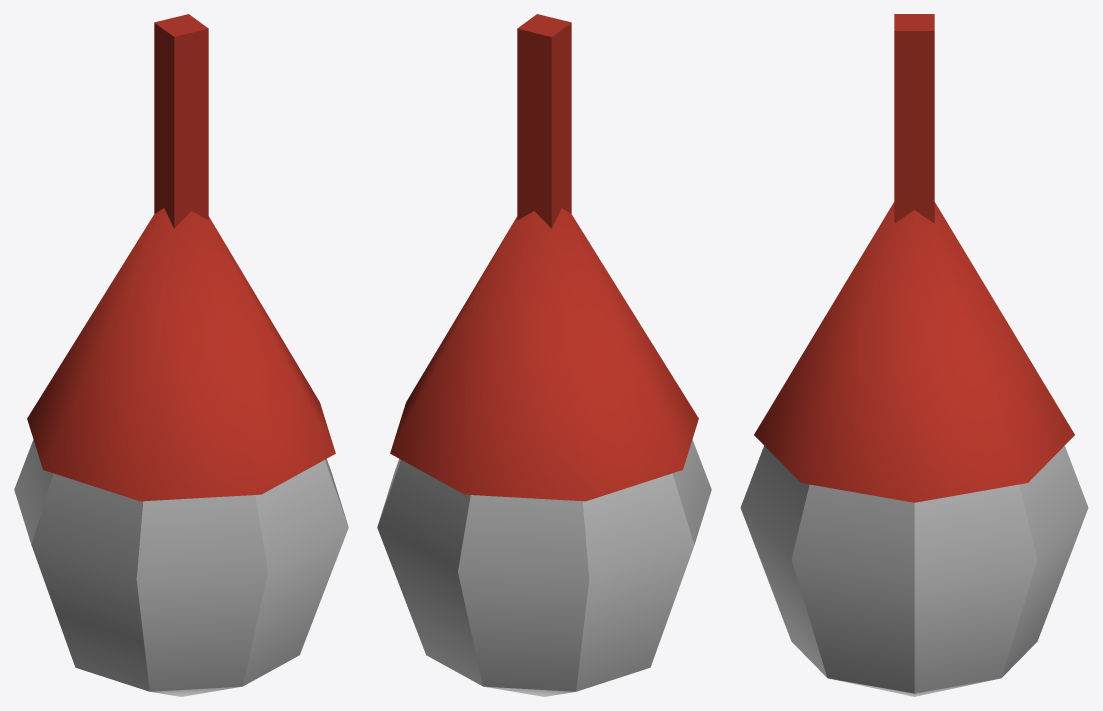
Rendered from fld_float.glb.
3 renders of one model, left to right at view 1: azimuth 30°, elevation 25°; view 2: azimuth 150°, elevation 25°; view 3: azimuth 270°, elevation 25°, orthographic.
Parts seen in each view (by area): view 1: fld_float; view 2: fld_float; view 3: fld_float.
Boxes of the visible parts, x1,y1,x2,y2 form: fld_float: [14, 14, 348, 696]; fld_float: [377, 14, 711, 696]; fld_float: [740, 14, 1088, 696].
Size of the model in its own units: 0.026 by 0.0556 by 0.026.
